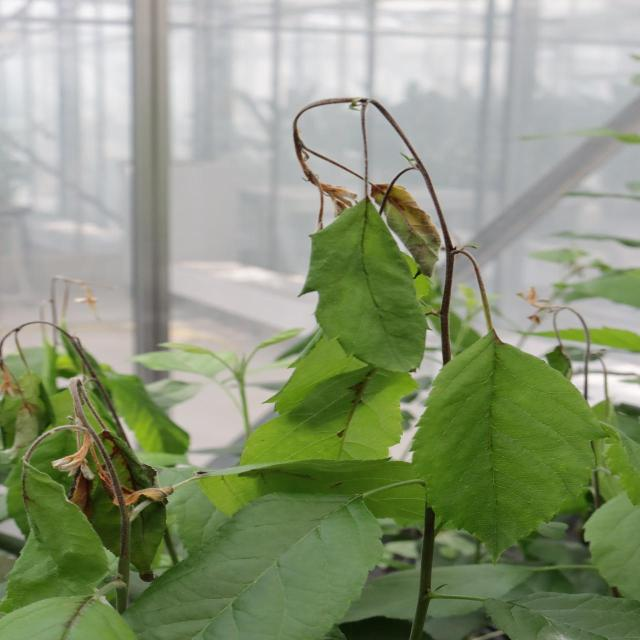-FireBlight-: (259, 86, 466, 297), (0, 309, 157, 524)
